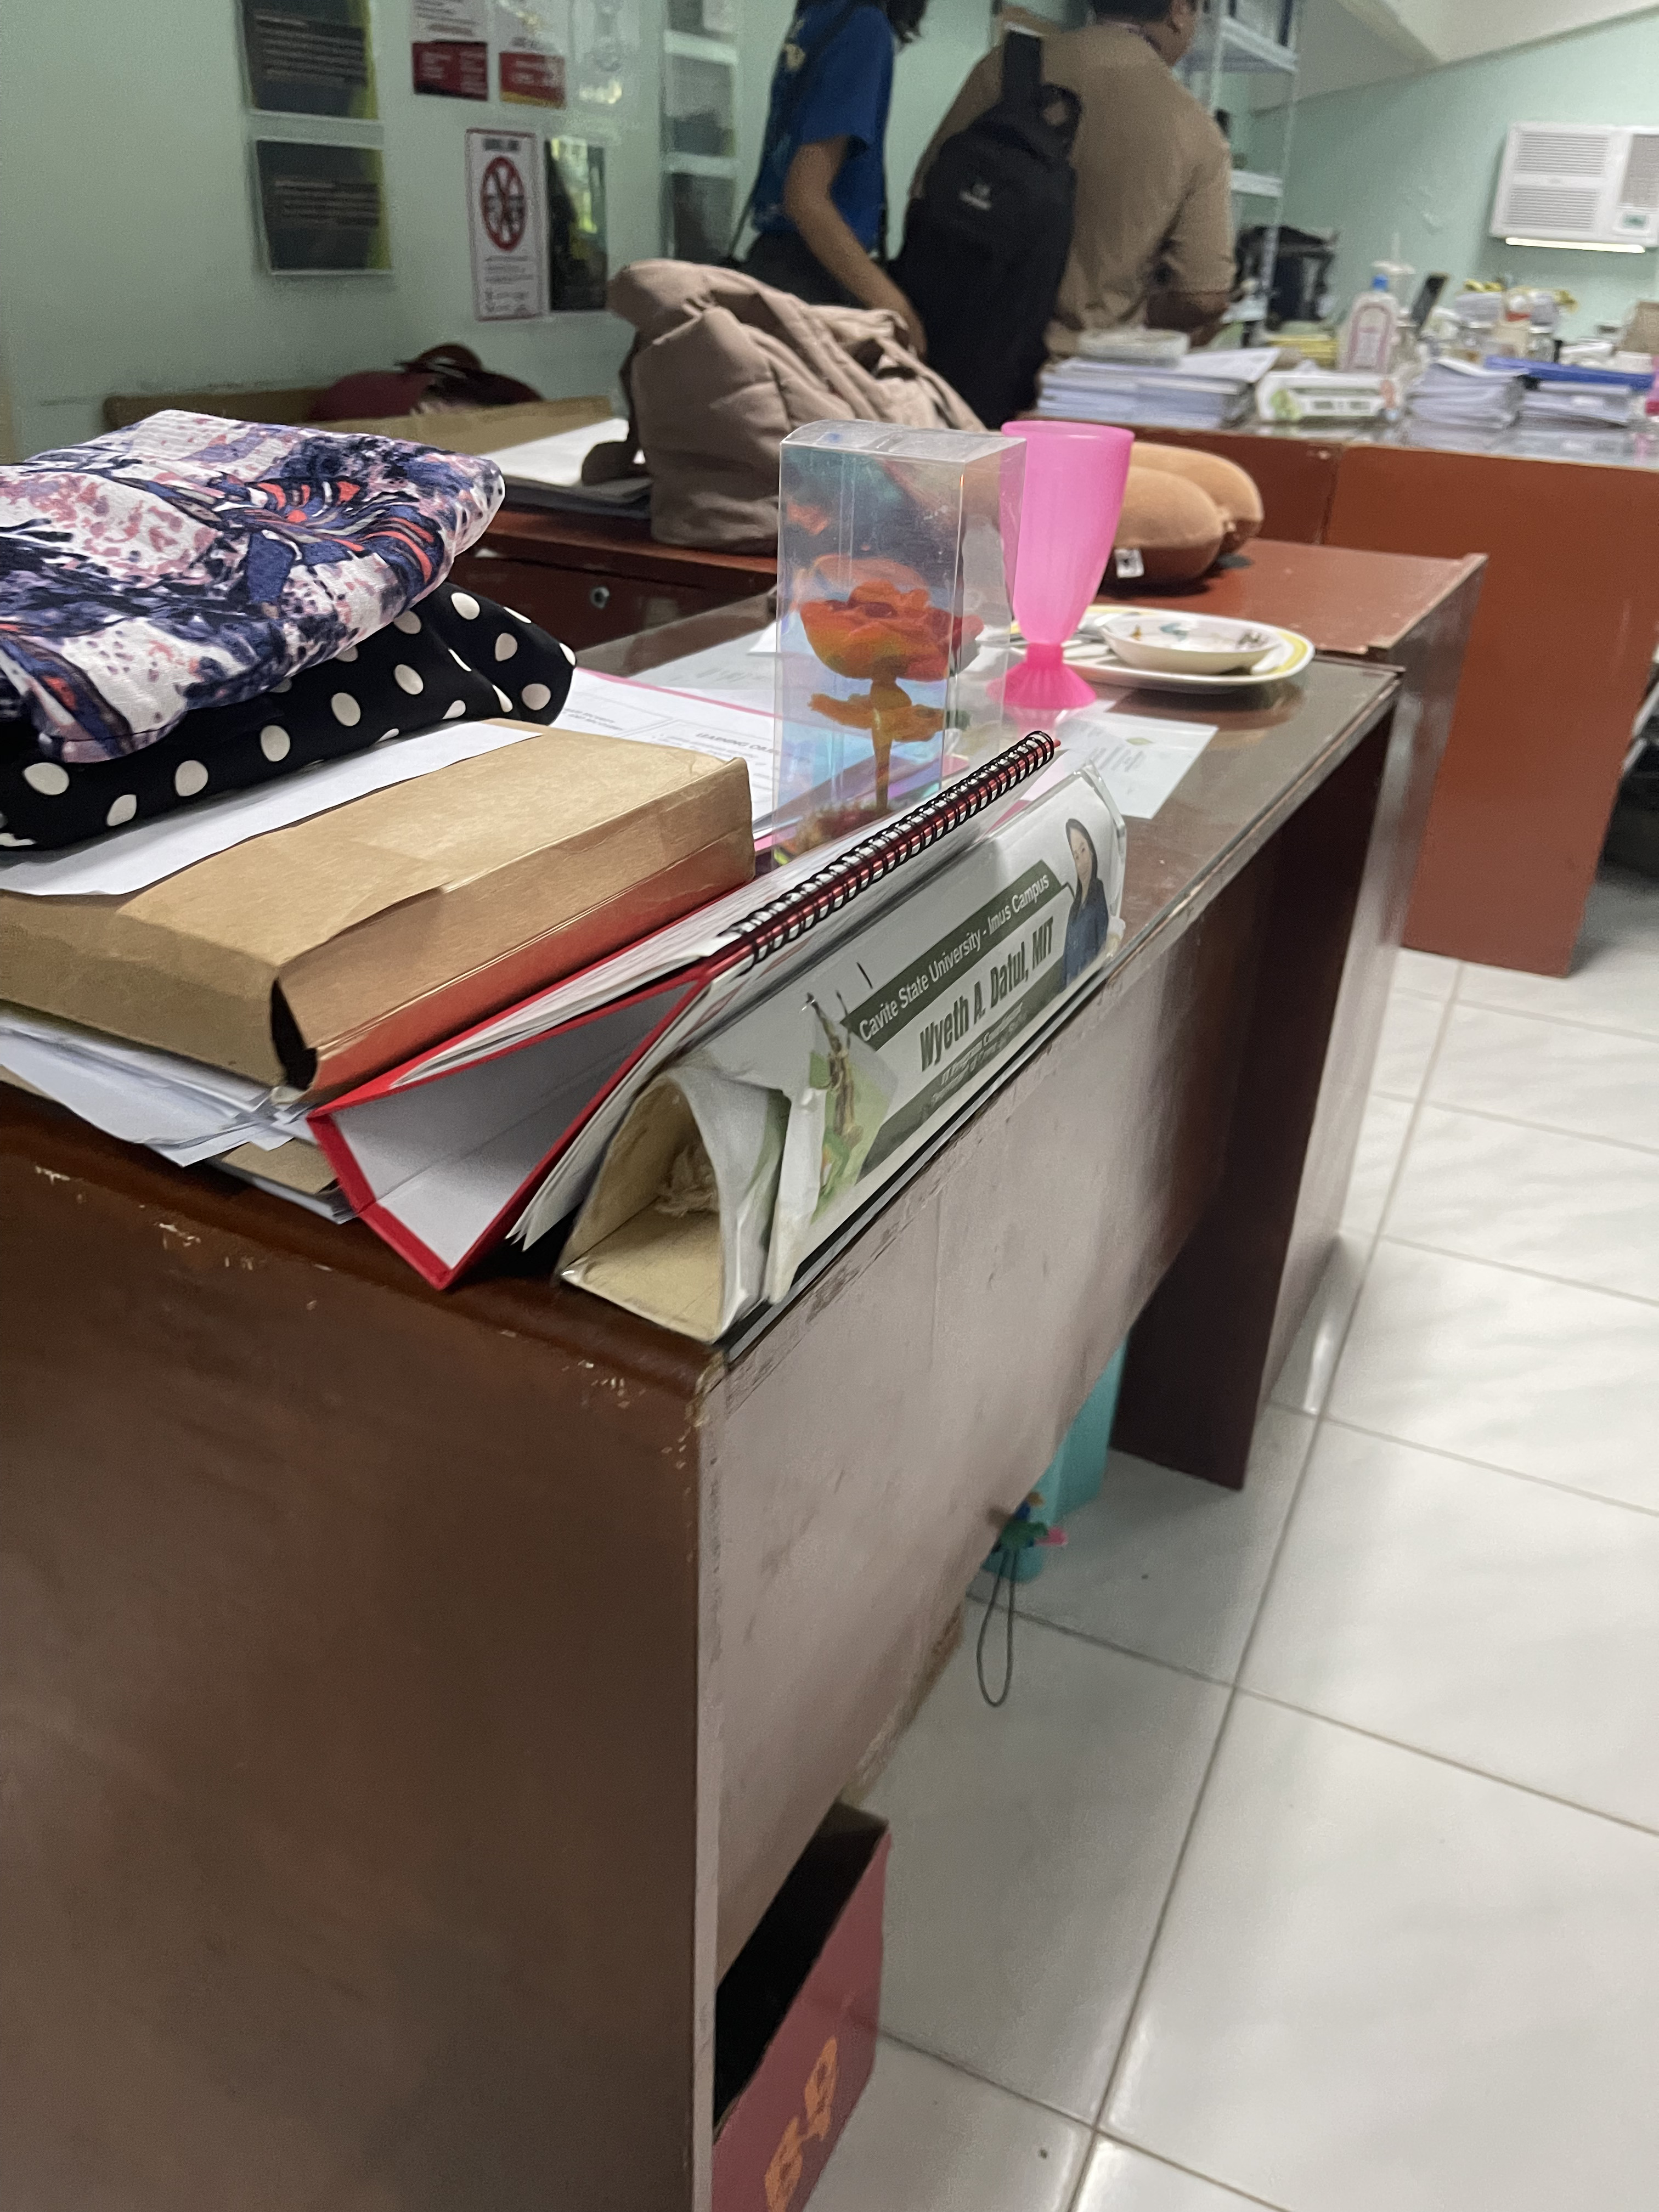table2: (0, 549, 1488, 2212)
